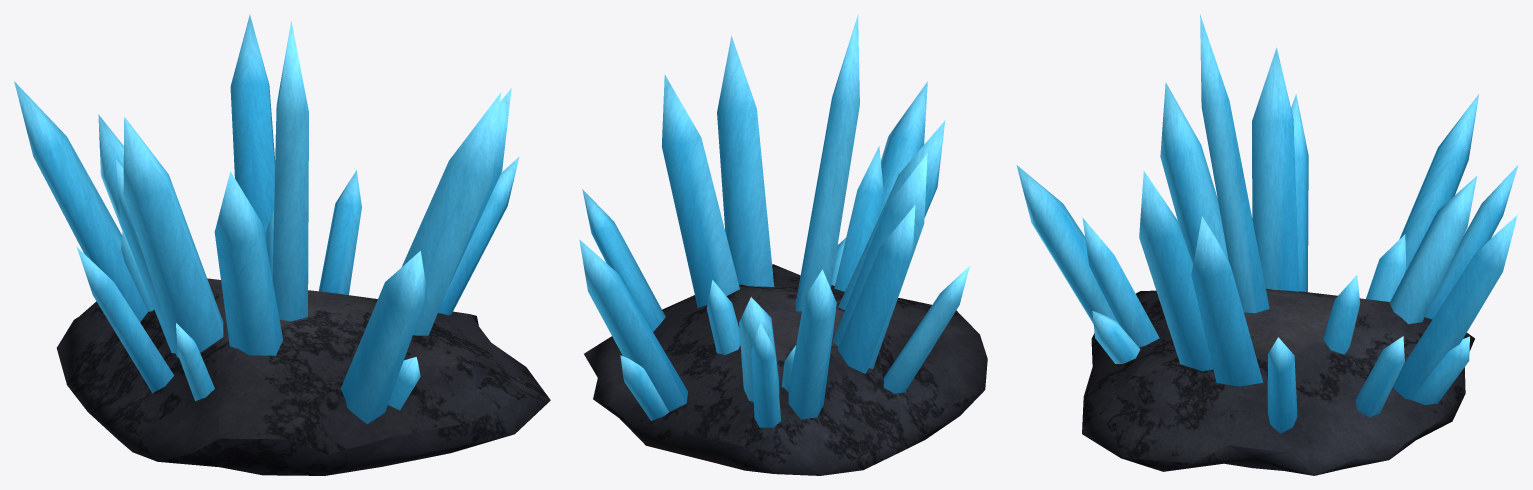
File: crystal_cluster_cyan.glb
3 renders of one model, left to right at view 1: azimuth 30°, elevation 25°; view 2: azimuth 150°, elevation 25°; view 3: azimuth 270°, elevation 25°, orthographic. The views are drawn at different scales.
Parts seen in each view (by area): view 1: crystal_cluster_cyan; view 2: crystal_cluster_cyan; view 3: crystal_cluster_cyan.
Boxes of the visible parts, box(x1,y1,x2,y2) form: crystal_cluster_cyan: box(14, 14, 550, 475); crystal_cluster_cyan: box(579, 14, 987, 475); crystal_cluster_cyan: box(1016, 14, 1518, 475).
Bounding box in the file's own units: 2.97 × 2.81 × 3.31.
2 materials, 2 textured.
